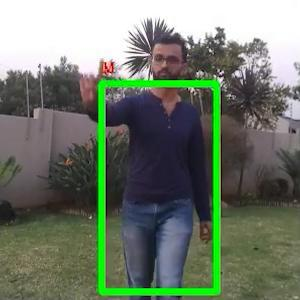takeoff-hand: (67, 53, 112, 101)
